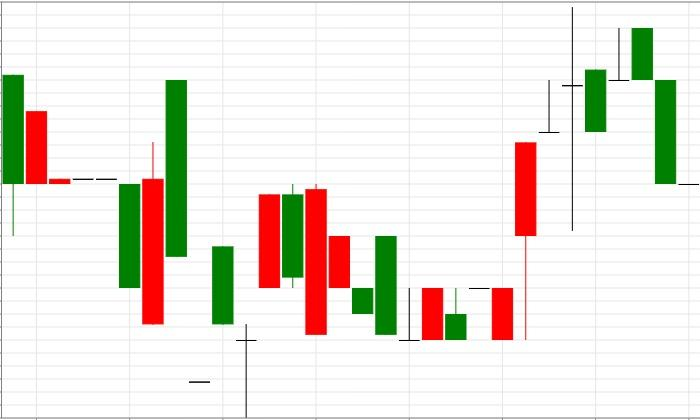bullish_engulfing_rise: (2, 75, 164, 324)
